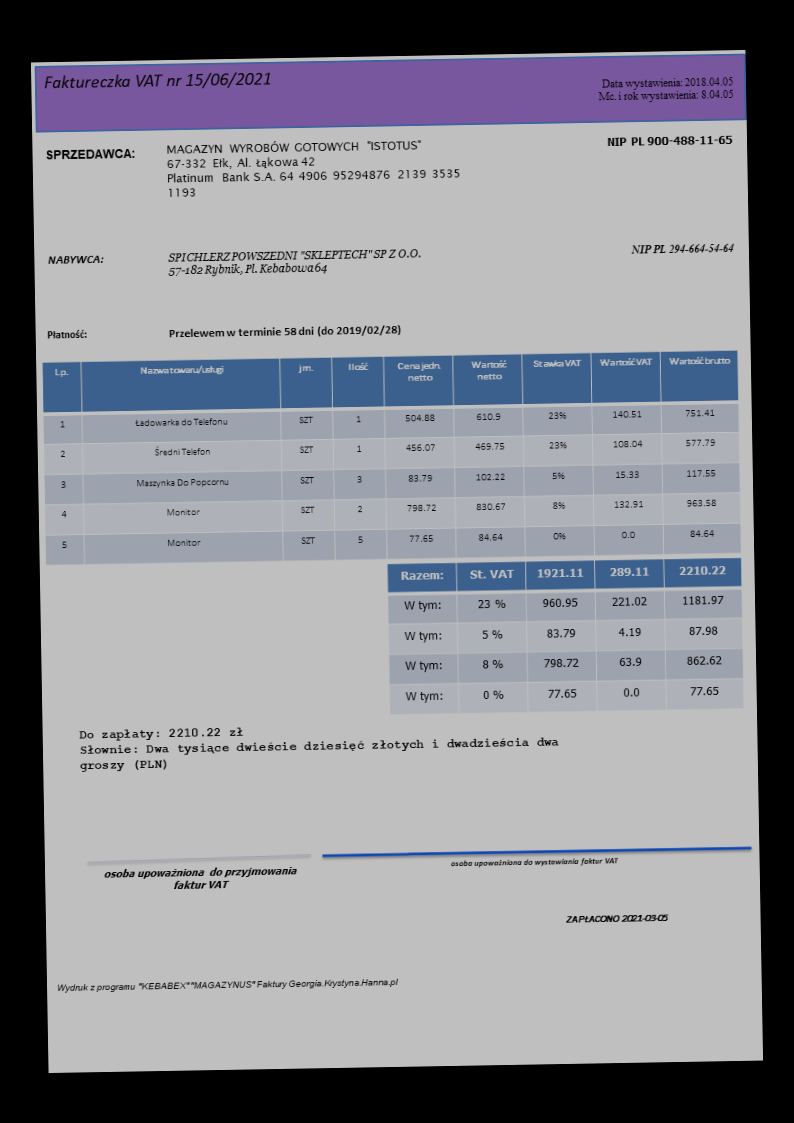Table: (41, 349, 743, 566), (386, 556, 745, 715)
TextBox: (77, 719, 563, 774), (164, 135, 463, 199), (167, 246, 423, 279), (54, 974, 401, 995), (102, 862, 300, 894), (42, 69, 273, 92), (596, 73, 735, 102), (167, 323, 402, 340), (448, 855, 620, 869), (604, 132, 734, 150), (43, 143, 137, 163), (629, 240, 735, 257), (563, 910, 669, 926), (45, 252, 106, 267), (45, 326, 89, 342)
